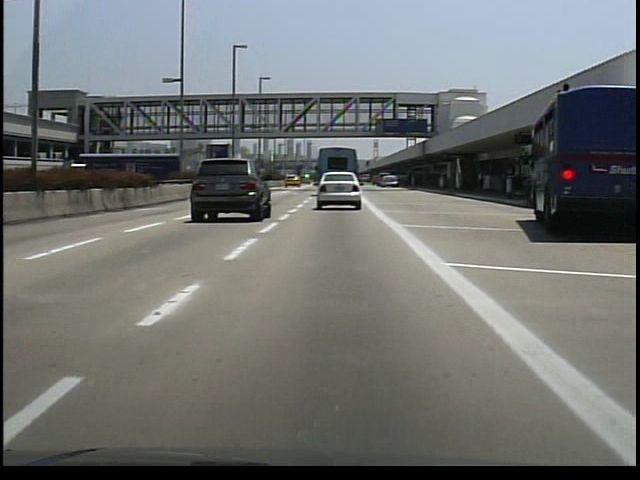person: (470, 164, 491, 201)
